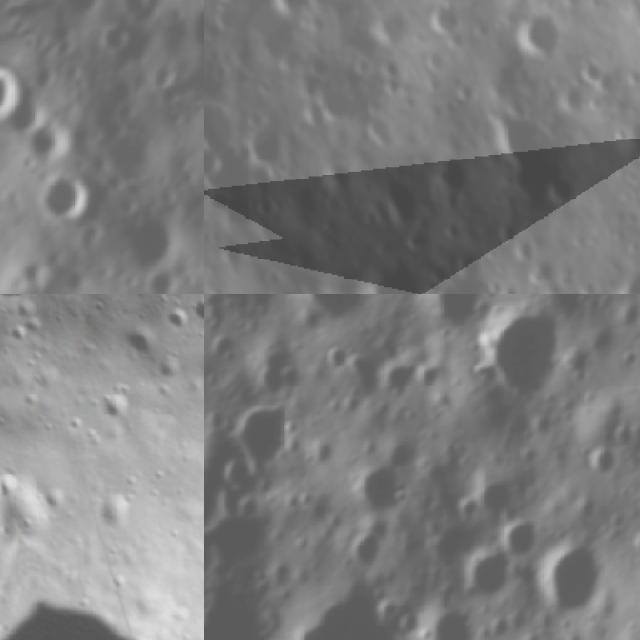crater: (20, 153, 114, 247), (485, 305, 567, 405), (104, 197, 192, 286), (540, 542, 611, 622), (296, 593, 410, 640), (226, 399, 298, 471), (0, 66, 53, 158), (0, 191, 43, 294), (18, 114, 82, 180), (467, 476, 530, 538), (421, 294, 492, 342), (359, 249, 432, 294), (284, 294, 372, 331), (84, 485, 143, 539), (354, 466, 412, 520), (111, 319, 165, 375), (428, 524, 484, 578), (86, 11, 140, 66), (461, 555, 512, 608), (166, 0, 204, 71), (350, 527, 401, 578), (420, 602, 487, 640), (137, 52, 186, 102), (212, 294, 306, 320), (517, 6, 563, 53), (92, 386, 138, 432), (494, 521, 540, 567), (578, 448, 630, 488), (204, 90, 237, 153), (378, 355, 423, 399), (220, 456, 258, 502), (251, 112, 288, 159), (108, 0, 165, 28), (370, 9, 407, 44), (161, 304, 197, 339), (423, 1, 462, 32), (550, 168, 578, 205), (560, 81, 589, 115), (0, 294, 50, 313), (271, 0, 314, 20), (186, 294, 204, 337), (623, 530, 640, 571), (583, 58, 609, 81)
